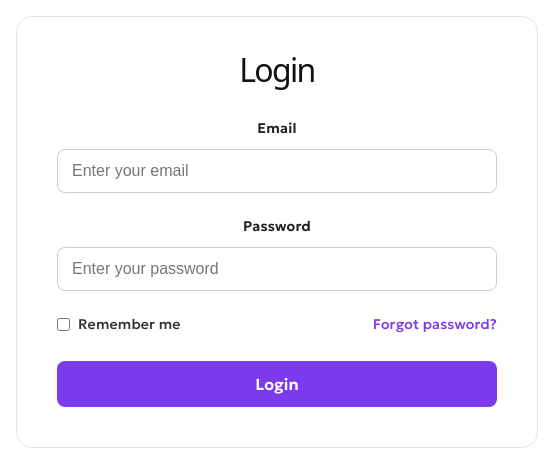
Login › shows loading state while login request is running
The width and height of the screenshot is (555, 465).
Type "test@example.com" into the field labelled "Email". click: (277, 171)
box: [57,149,497,193]
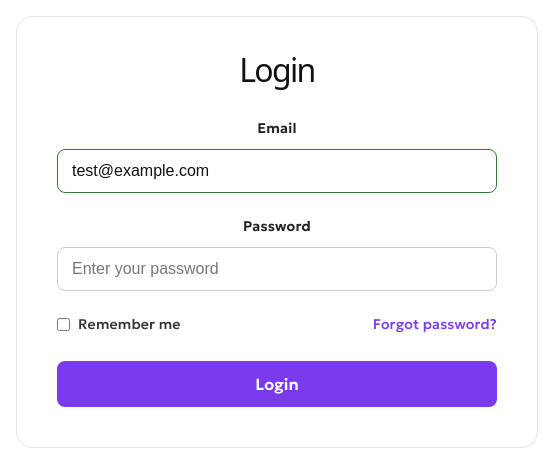
Type "password123" into the password field labelled "Password". click: (277, 269)
box: [57,247,497,291]
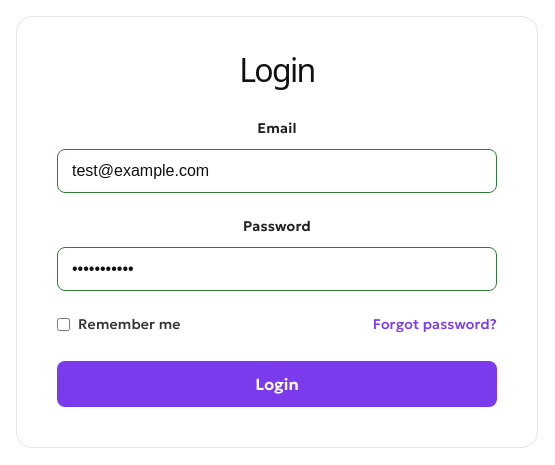
Click the button "Login". click: (277, 384)
box: [57,361,497,407]
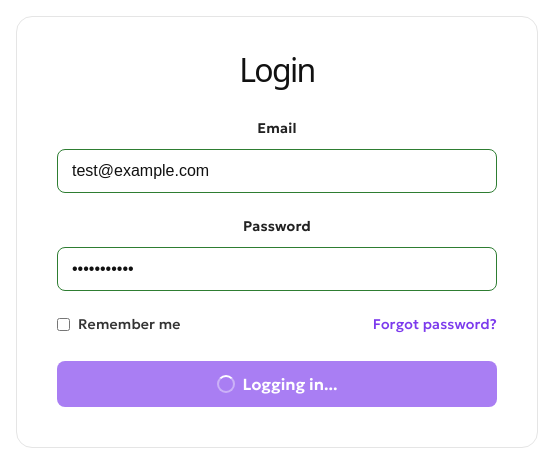
Check: the button "Logging in..." is disabled, box [57,361,497,407]
